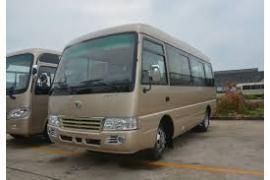bus: (48, 24, 214, 160)
